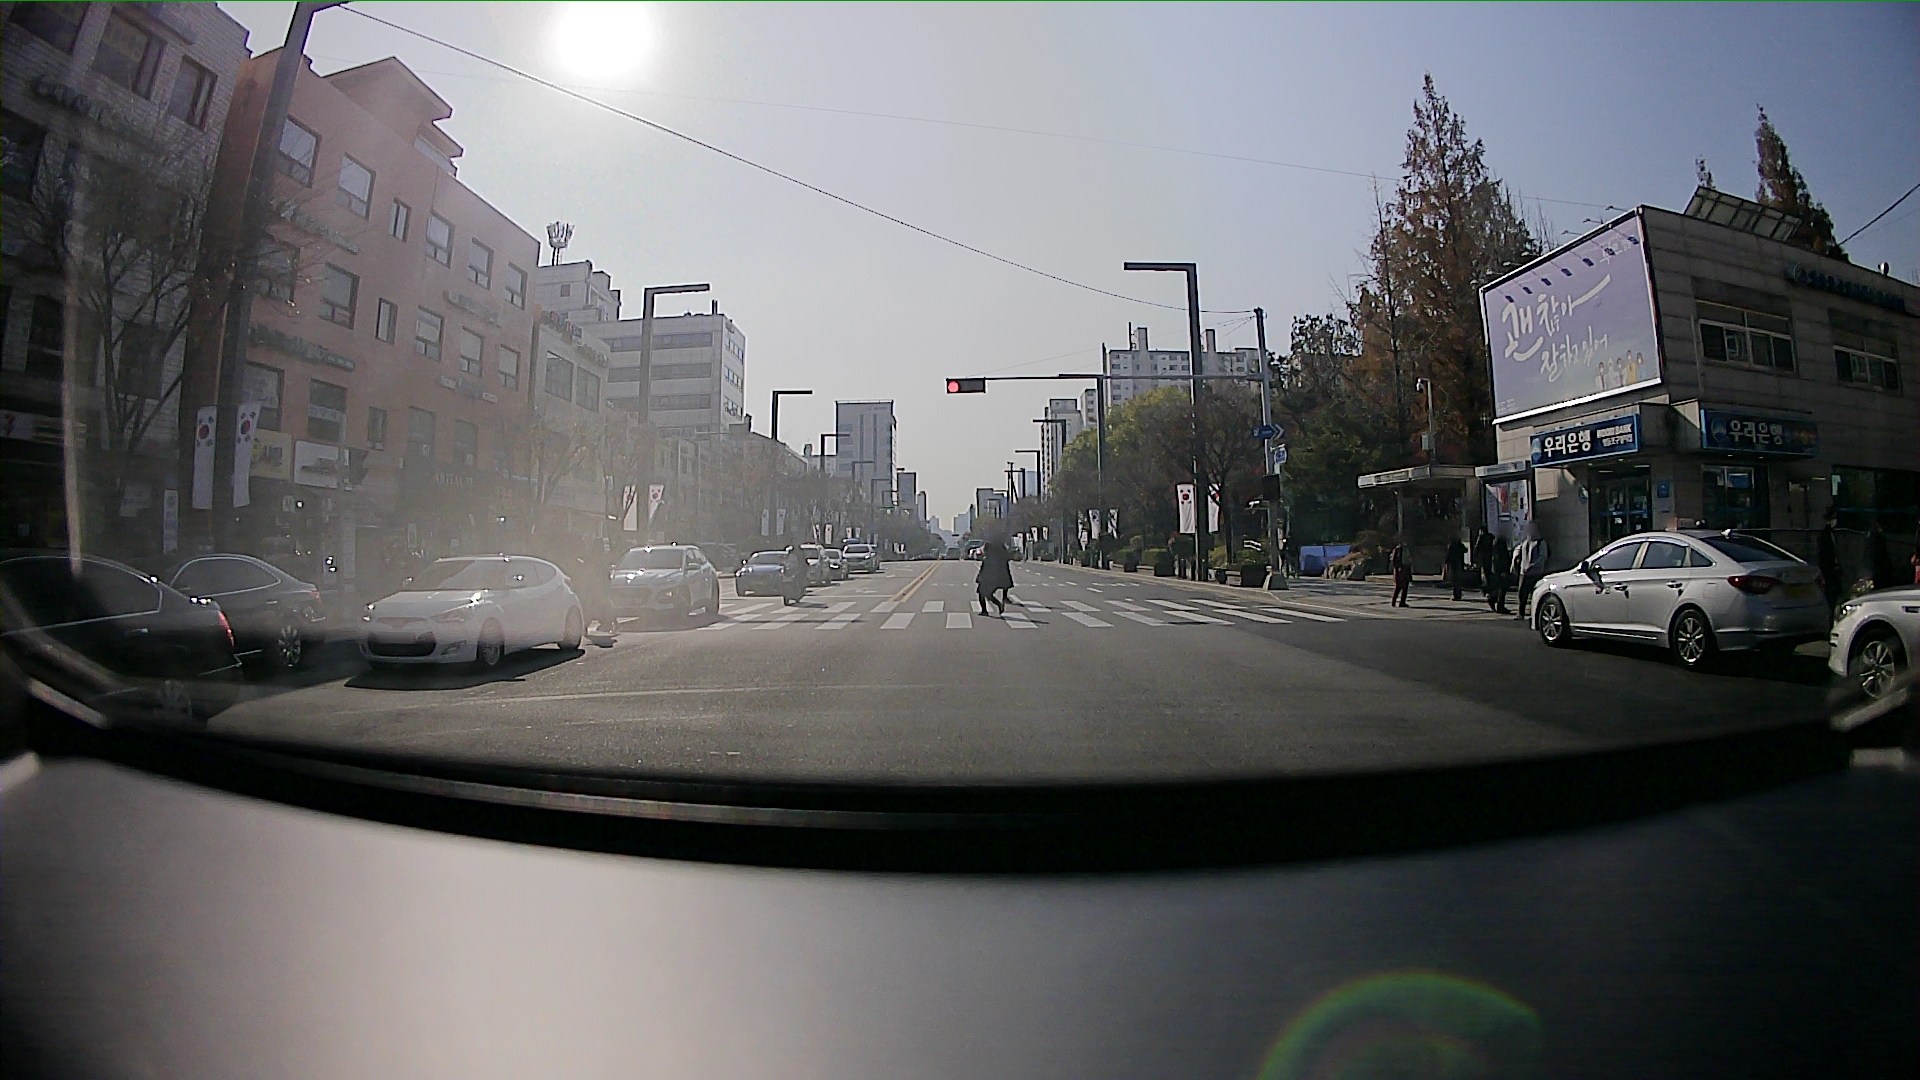trafficLight: (943, 375, 992, 397)
